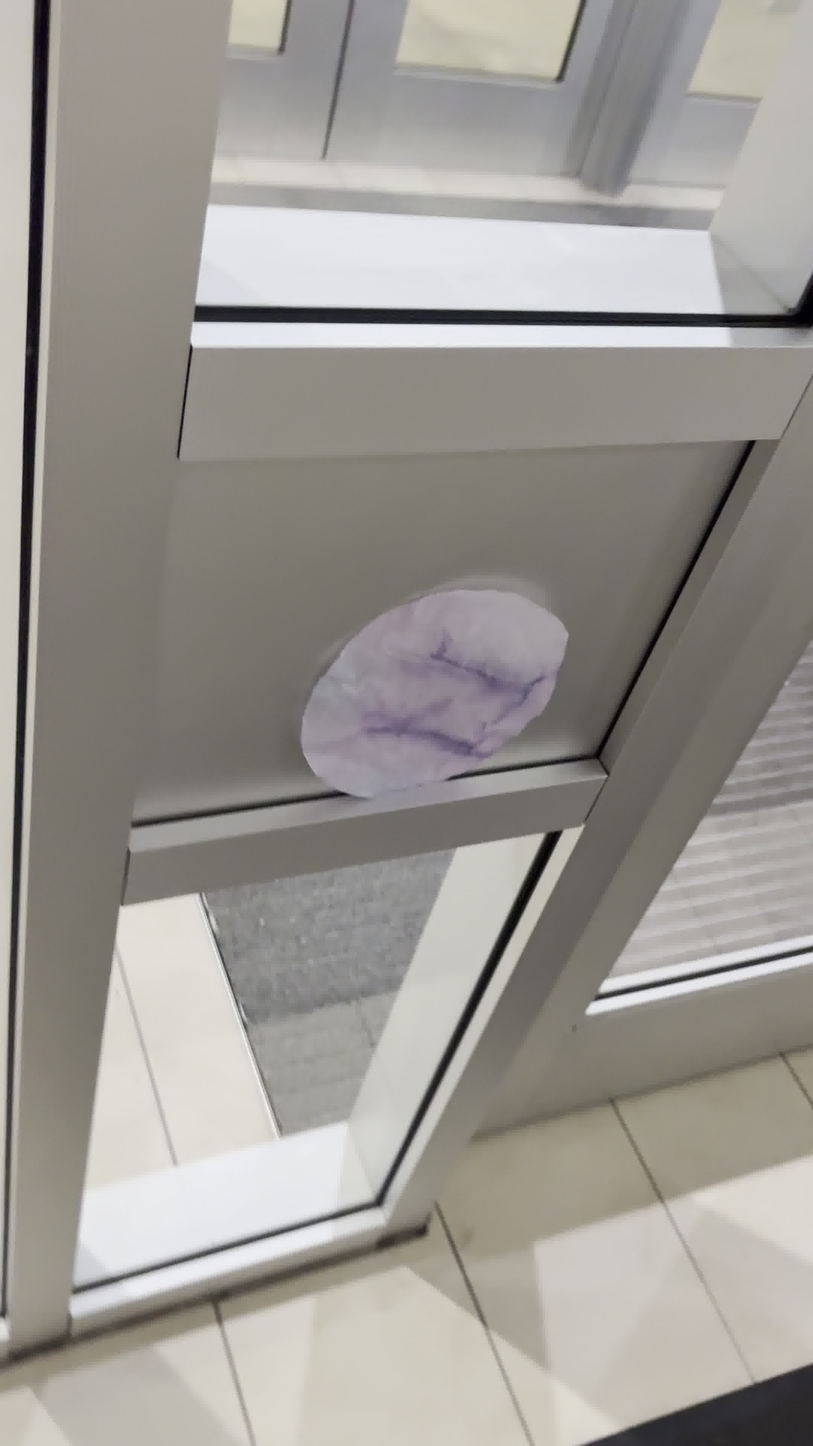Target: (295, 583, 574, 804)
